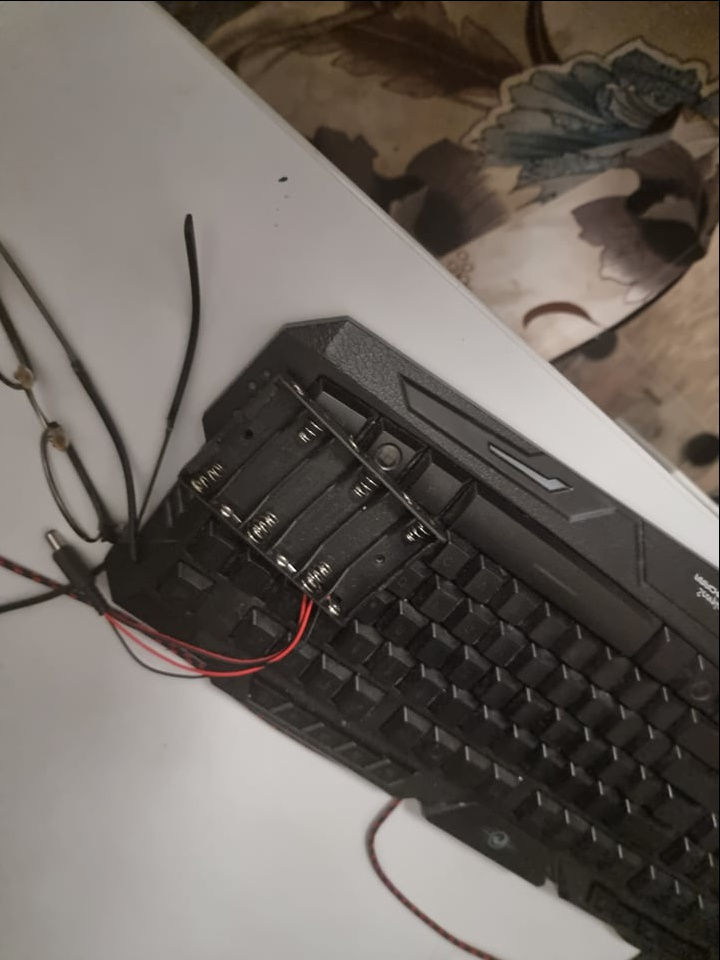BATTERY BOX: (177, 359, 449, 636)
